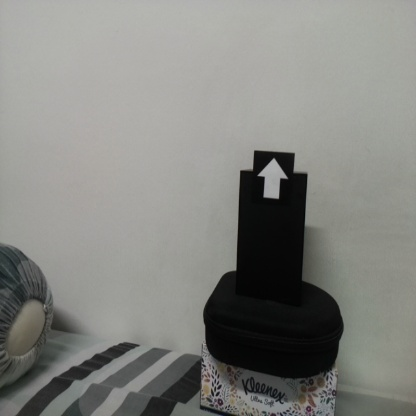id_1: (254, 151, 295, 220)
